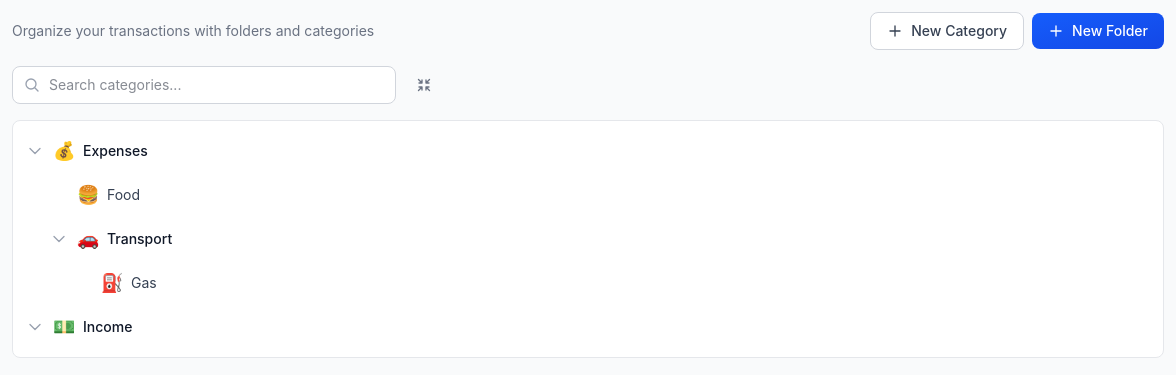
Scenario: CategoriesTab › expand/collapse toggle › should collapse all folders when clicking collapse button
Expected: the text "Food" is shown, [107,186,140,203]
# click the toggle button (should be "Collapse All" since all are expanded)
Click the button titled "Collapse All".
click(424, 85)  # box [408,69,440,101]
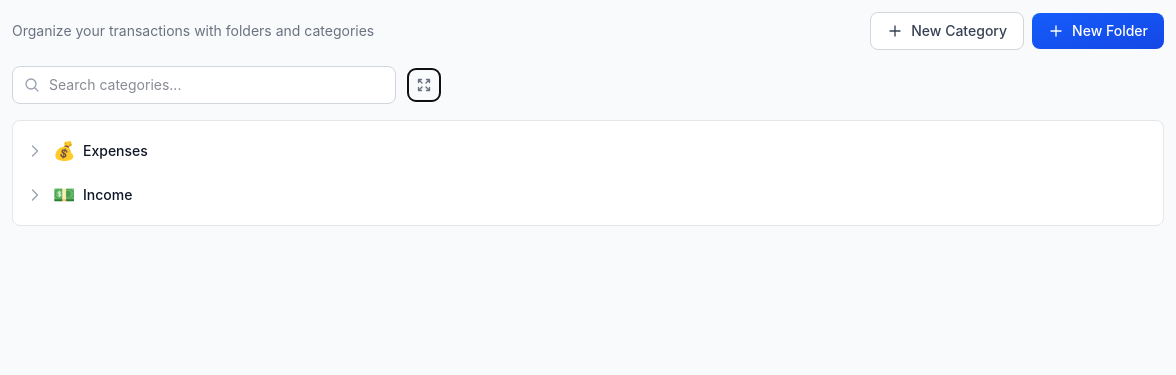
Expected: the text "Expenses" is shown, [83,142,148,159]
Expected: the text "Food" is gone
Expected: the text "Gas" is gone
